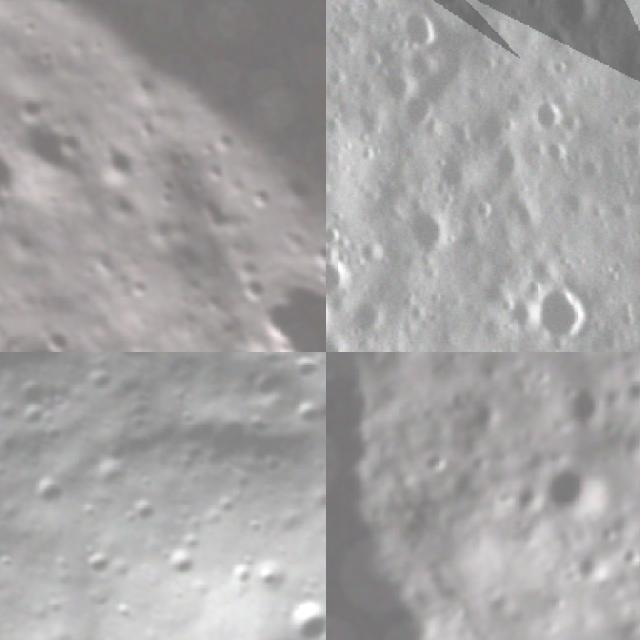crater: (1, 98, 102, 201), (231, 255, 326, 352), (386, 179, 479, 273), (517, 266, 614, 352), (384, 0, 453, 71), (387, 74, 456, 140), (542, 462, 622, 516), (533, 0, 615, 49), (0, 131, 37, 239), (337, 287, 399, 348), (0, 369, 55, 434), (87, 138, 145, 196), (68, 529, 125, 588), (187, 186, 242, 244), (22, 462, 77, 518), (517, 84, 572, 139), (156, 534, 211, 589), (193, 116, 248, 170), (238, 362, 290, 412), (326, 245, 363, 314), (279, 589, 326, 640), (556, 383, 609, 425), (96, 183, 142, 230), (5, 87, 51, 132), (282, 352, 326, 396), (48, 125, 90, 168), (115, 271, 158, 313), (235, 180, 277, 221), (607, 96, 640, 147), (31, 320, 75, 352), (129, 111, 164, 147), (326, 321, 363, 352), (10, 13, 43, 46), (422, 452, 457, 479), (577, 556, 610, 584), (194, 157, 223, 188), (619, 538, 640, 567), (50, 339, 85, 352)
